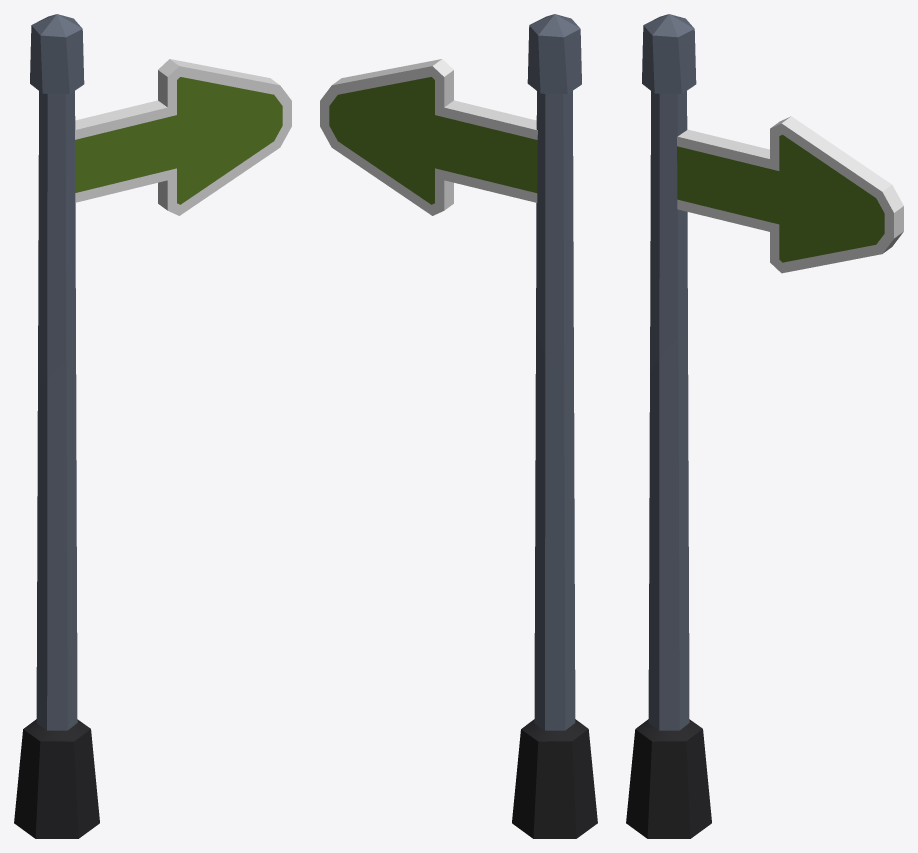
The model's file is Road Sign 5 Fractured.fbx.
The picture shows the model from 3 angles, left to right: view 1: azimuth 30°, elevation 25°; view 2: azimuth 150°, elevation 25°; view 3: azimuth 330°, elevation 25°; orthographic projection.
Visible parts, largest first — view 1: Road_Sign_05_Breaking.001, Road_Sign_05_Breaking; view 2: Road_Sign_05_Breaking.001, Road_Sign_05_Breaking; view 3: Road_Sign_05_Breaking.001, Road_Sign_05_Breaking.
Boxes of the visible parts, bbox=[...] form: Road_Sign_05_Breaking.001: bbox=[30, 14, 291, 379]; Road_Sign_05_Breaking: bbox=[14, 331, 99, 838]; Road_Sign_05_Breaking.001: bbox=[320, 14, 581, 378]; Road_Sign_05_Breaking: bbox=[512, 330, 597, 838]; Road_Sign_05_Breaking.001: bbox=[642, 14, 903, 371]; Road_Sign_05_Breaking: bbox=[626, 330, 711, 838].
Size of the model in its own units: 75.6 by 223 by 21.5.
